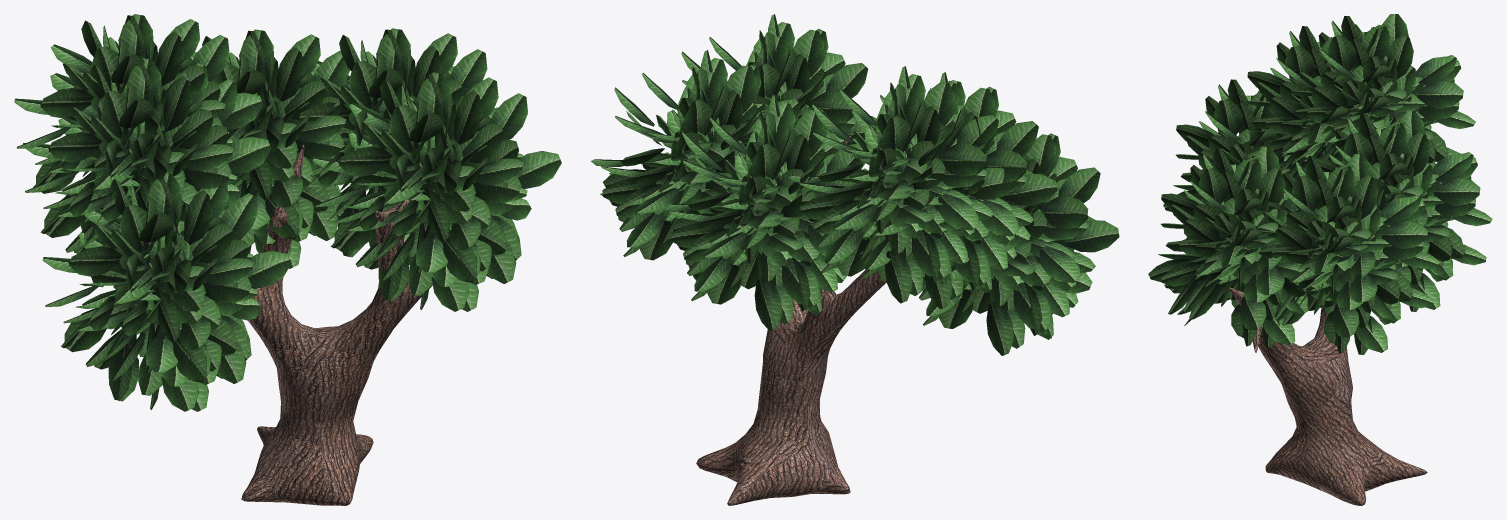
The model's file is tree.fbx.
The picture shows the model from 3 angles, left to right: view 1: azimuth 30°, elevation 25°; view 2: azimuth 150°, elevation 25°; view 3: azimuth 270°, elevation 25°; orthographic projection. The views are drawn at different scales.
Parts seen in each view (by area): view 1: Cube; view 2: Cube; view 3: Cube.
Boxes of the visible parts, x1,y1,x2,y2 form: Cube: (14, 14, 561, 505); Cube: (591, 14, 1119, 505); Cube: (1148, 14, 1492, 505).
Size of the model in its own units: 526 by 509 by 397.
